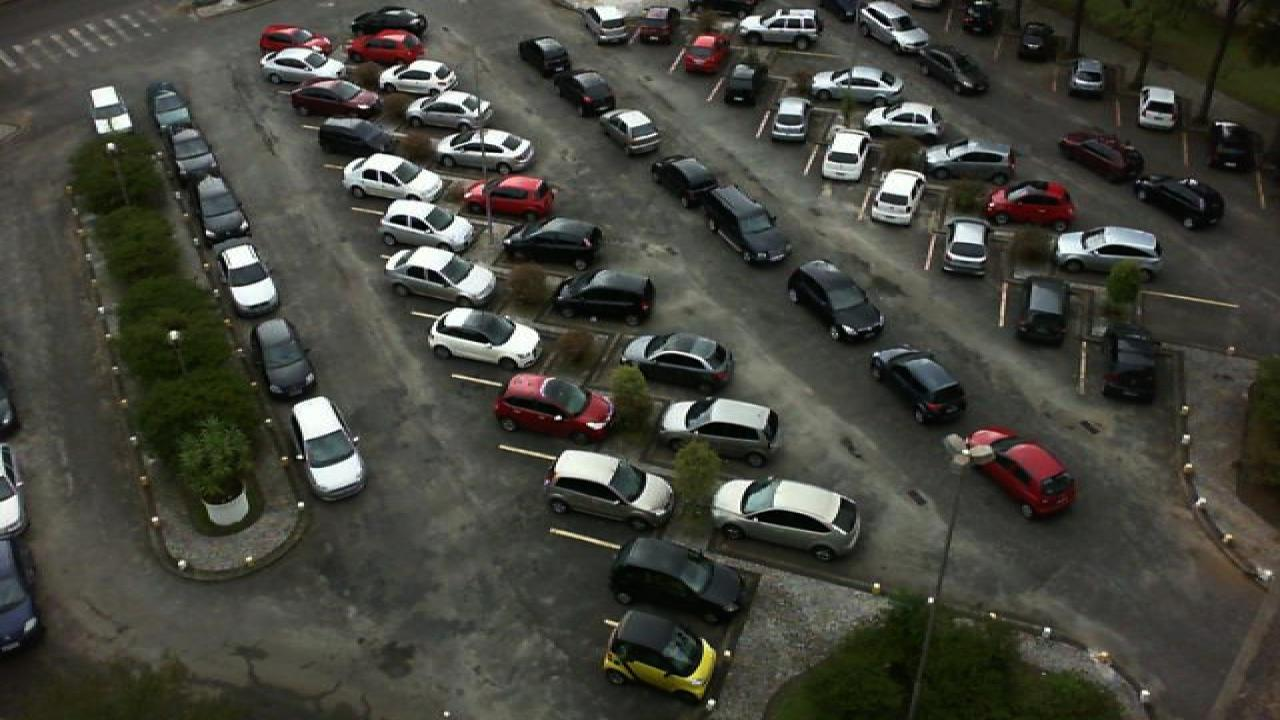Car: (708, 476, 860, 560), (608, 536, 746, 624), (542, 447, 674, 531), (960, 426, 1080, 518), (600, 611, 718, 703), (654, 396, 782, 469), (494, 371, 616, 443), (786, 258, 888, 342), (288, 396, 366, 503), (618, 331, 738, 397), (424, 306, 544, 371), (700, 184, 794, 266), (870, 346, 966, 424), (380, 246, 500, 308), (338, 151, 448, 205), (550, 267, 654, 323), (376, 198, 480, 254), (1052, 224, 1166, 273), (1132, 173, 1228, 231), (504, 216, 606, 270), (252, 318, 318, 400), (982, 176, 1080, 231), (460, 173, 558, 223), (214, 242, 280, 315), (436, 128, 536, 174), (1100, 327, 1158, 403), (1060, 132, 1148, 182), (922, 140, 1020, 184), (808, 64, 906, 107), (1014, 276, 1074, 346), (854, 1, 932, 54), (314, 117, 404, 162), (648, 154, 720, 210), (288, 78, 384, 118), (916, 46, 992, 96), (194, 175, 252, 240), (404, 90, 496, 130), (260, 47, 348, 87), (738, 8, 822, 48), (940, 214, 994, 276), (552, 68, 618, 118), (862, 100, 944, 140), (866, 168, 922, 225), (380, 58, 462, 96), (600, 107, 662, 156), (346, 30, 428, 66), (820, 128, 870, 181), (168, 126, 218, 177), (1212, 118, 1260, 170), (354, 6, 430, 38), (148, 81, 196, 129), (258, 24, 332, 55), (680, 31, 728, 76), (516, 35, 572, 73), (1136, 86, 1180, 132), (582, 2, 630, 43), (768, 96, 810, 142), (636, 3, 680, 44), (1066, 57, 1110, 98), (722, 62, 762, 107), (1018, 21, 1058, 61), (962, 0, 998, 37)
